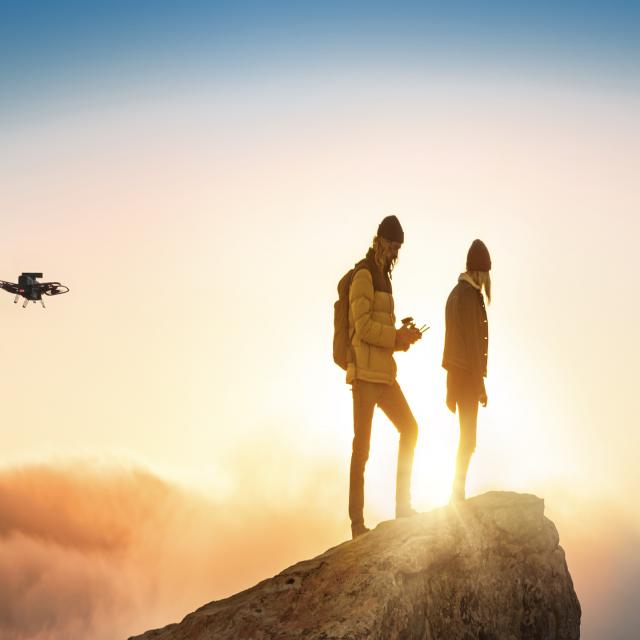drone: (0, 257, 76, 319)
